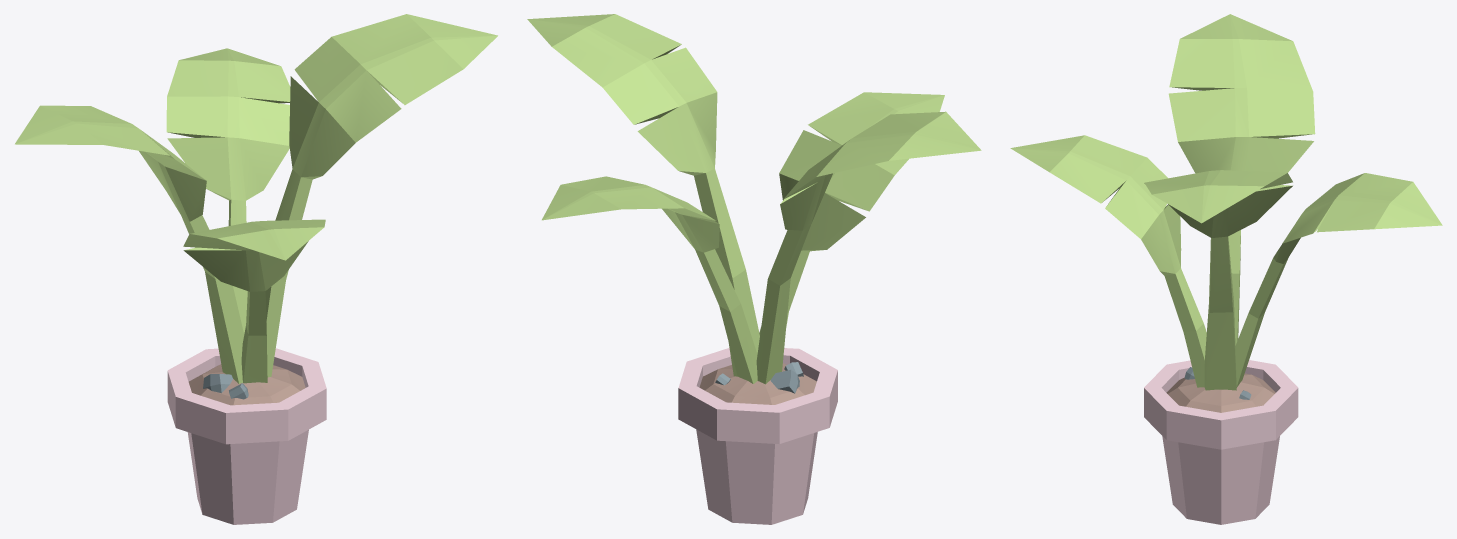
The model's file is plant_02.gltf.
The picture shows the model from 3 angles, left to right: view 1: azimuth 30°, elevation 25°; view 2: azimuth 150°, elevation 25°; view 3: azimuth 270°, elevation 25°; orthographic projection. The views are drawn at different scales.
Visible parts, largest first — view 1: node-0; view 2: node-0; view 3: node-0.
Boxes of the visible parts, x1,y1,x2,y2 form: node-0: [15, 14, 497, 524]; node-0: [527, 14, 981, 524]; node-0: [1010, 14, 1442, 524].
Size of the model in its own units: 228 by 199 by 194.
